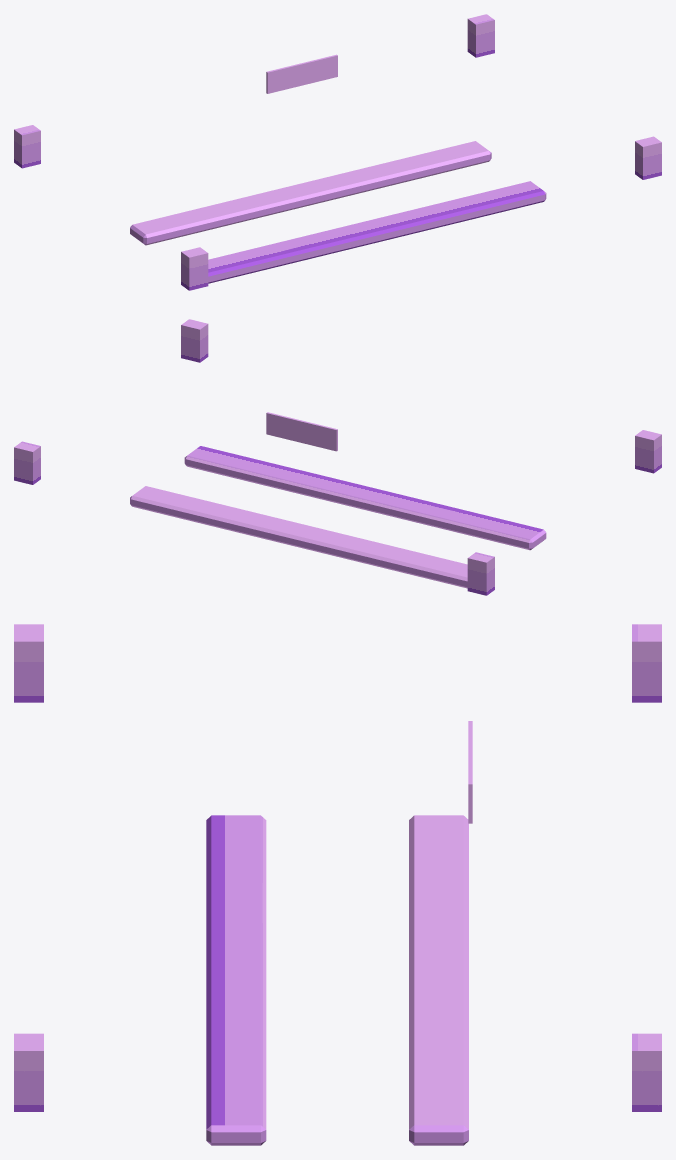
Rendered from bulb_lamp_lit_emission.obj.
The picture shows the model from 3 angles, top to bottom: view 1: azimuth 30°, elevation 25°; view 2: azimuth 150°, elevation 25°; view 3: azimuth 270°, elevation 25°; orthographic projection. The views are drawn at different scales.
Parts seen in each view (by area): view 1: model; view 2: model; view 3: model.
Part boxes in pixels (x1,y1,x2,y2): model: [14, 14, 661, 290]; model: [14, 319, 661, 595]; model: [14, 624, 661, 1145].
Size of the model in its own units: 0.84 by 0.2209 by 0.5394.
